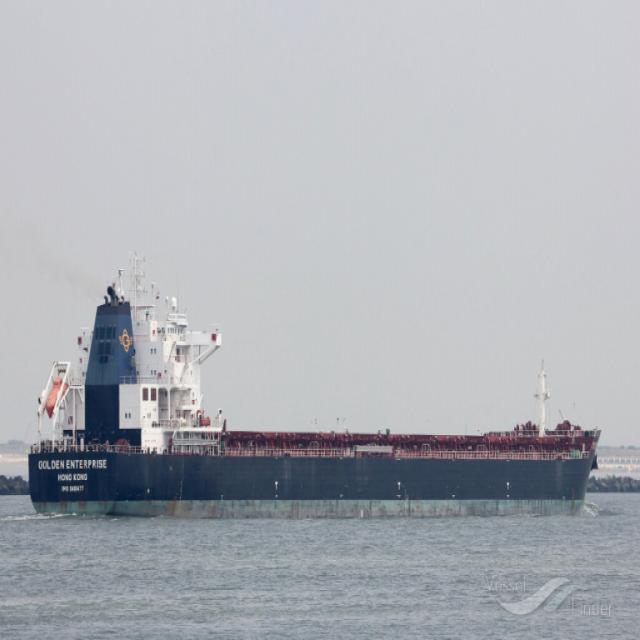Bulk Carrier: (29, 275, 601, 516)
